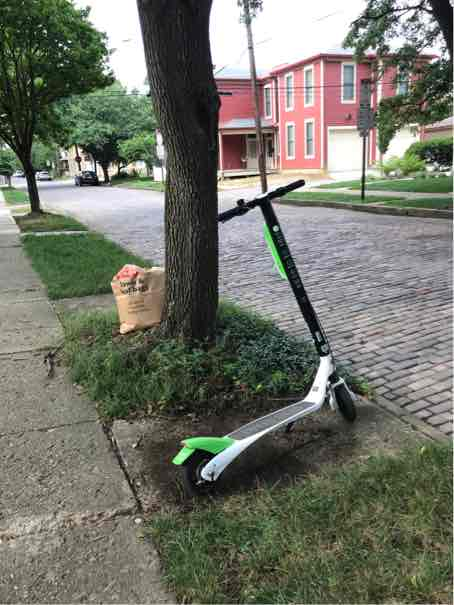scooter: (159, 183, 368, 495)
